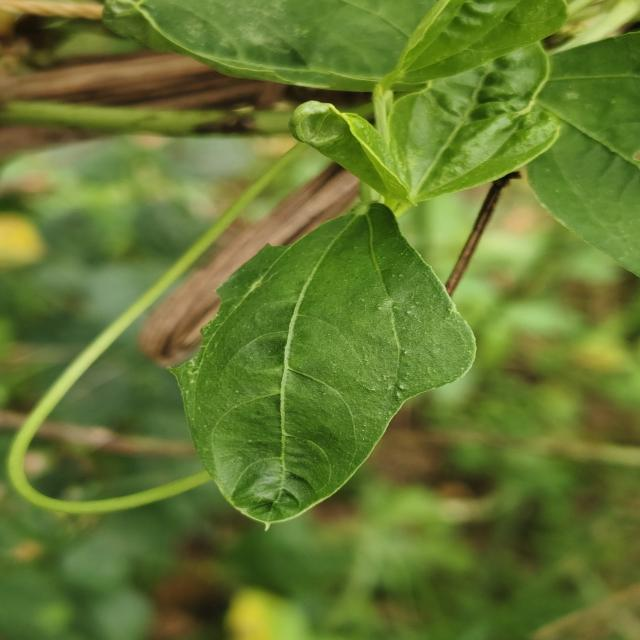leaf-low: (533, 33, 640, 275)
leaf-moderate: (104, 0, 438, 91), (395, 0, 568, 89)
sitaw-aphid-high: (184, 203, 475, 523), (292, 42, 560, 209)
